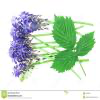Raspberry leaf: (52, 14, 77, 50), (50, 49, 77, 74), (75, 30, 96, 57)
